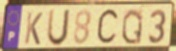3: (147, 7, 168, 46)
8: (72, 9, 94, 47)
C: (95, 7, 121, 48)
K: (23, 11, 45, 46)
Q: (120, 7, 144, 46)
U: (46, 8, 73, 48)
